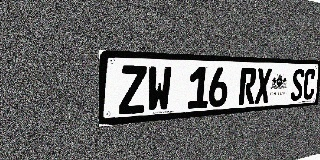1: (188, 67, 210, 109)
6: (208, 67, 229, 108)
C: (302, 69, 316, 100)
R: (238, 68, 257, 105)
S: (290, 69, 305, 101)
W: (146, 66, 172, 112)
X: (254, 68, 272, 104)
Z: (119, 65, 147, 115)
